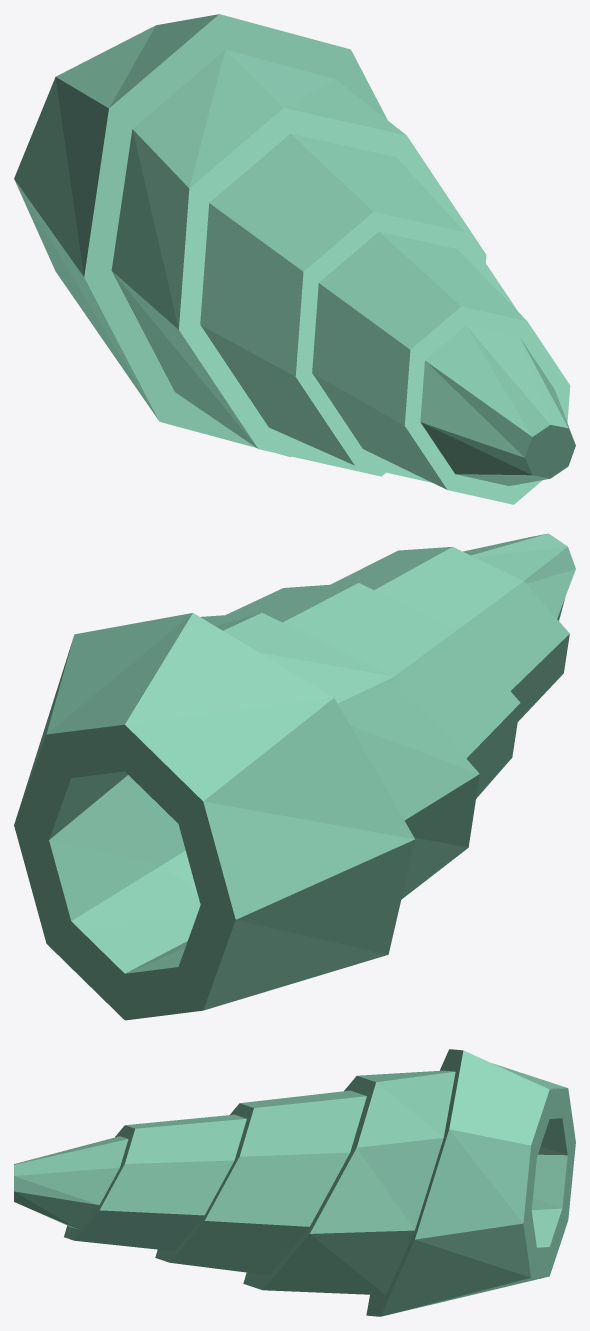
File: Seashell 3 CYAN.fbx
3 views of the same model, one above another, from view 1: azimuth 30°, elevation 25°; view 2: azimuth 150°, elevation 25°; view 3: azimuth 270°, elevation 25° (orthographic). The views are drawn at different scales.
Parts seen in each view (by area): view 1: Cylinder002; view 2: Cylinder002; view 3: Cylinder002.
Part boxes in pixels (bbox=[...]): Cylinder002: bbox=[14, 14, 575, 504]; Cylinder002: bbox=[14, 533, 575, 1020]; Cylinder002: bbox=[14, 1049, 575, 1316].
Bounding box in the file's own units: 11.64 × 12.7 × 24.39.
1 material, 1 textured.
